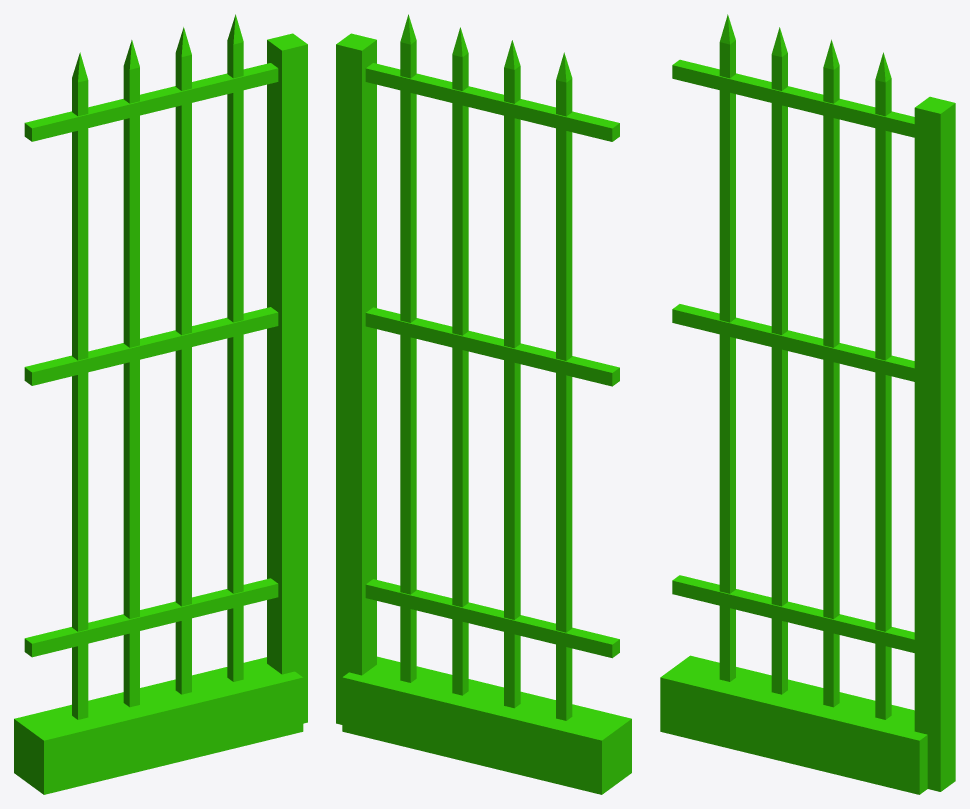
The model's file is fence3_08.fbx.
3 renders of one model, left to right at view 1: azimuth 30°, elevation 25°; view 2: azimuth 150°, elevation 25°; view 3: azimuth 330°, elevation 25°, orthographic.
Visible parts, largest first — view 1: fence3_08; view 2: fence3_08; view 3: fence3_08.
Boxes of the visible parts, left/top/right/bottom form: fence3_08: left=14, top=14, right=307, bottom=794; fence3_08: left=336, top=14, right=631, bottom=794; fence3_08: left=660, top=14, right=955, bottom=794.
Size of the model in its own units: 105 by 265 by 20.
